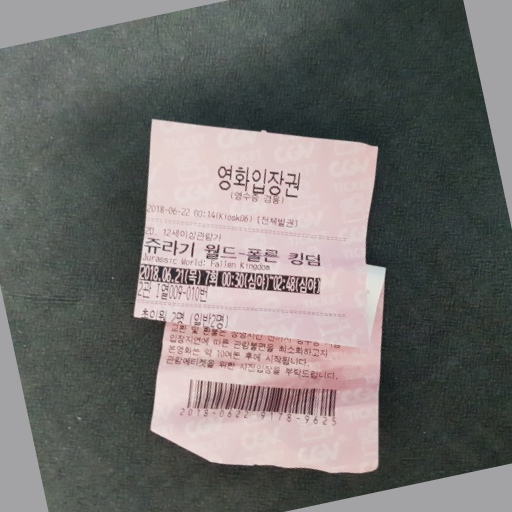Paper_3: (128, 100, 401, 487)
